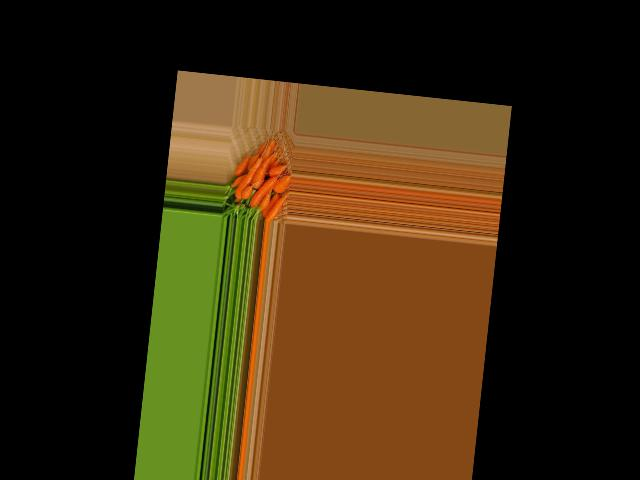carrot: (230, 170, 246, 186)
